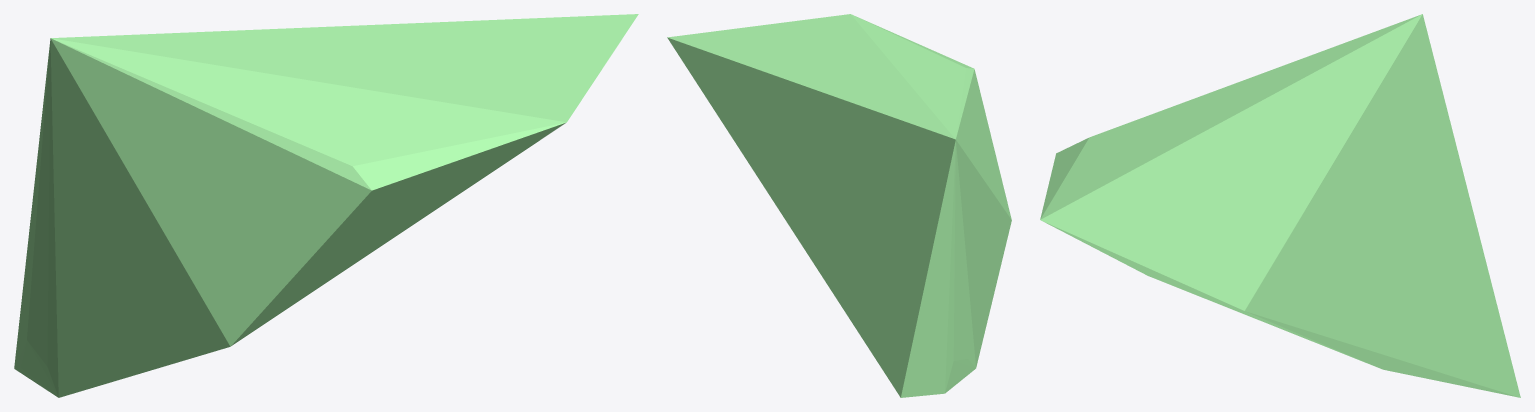
The model's file is xarm7_with_gripper_robot_base_coll_26.dae.
3 renders of one model, left to right at view 1: azimuth 30°, elevation 25°; view 2: azimuth 150°, elevation 25°; view 3: azimuth 270°, elevation 25°, orthographic. The views are drawn at different scales.
Visible parts, largest first — view 1: Node_000001B89B5E5B60; view 2: Node_000001B89B5E5B60; view 3: Node_000001B89B5E5B60.
Part boxes in pixels (<box>): Node_000001B89B5E5B60: <box>14,14,638,397</box>; Node_000001B89B5E5B60: <box>667,14,1011,397</box>; Node_000001B89B5E5B60: <box>1040,14,1520,397</box>.
Bounding box in the file's own units: 0.1622 × 0.1052 × 0.1249.
